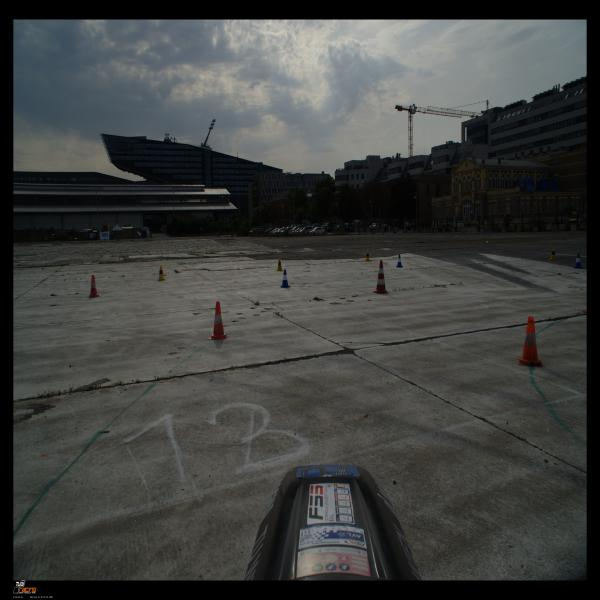blue_cone: (279, 269, 291, 288), (573, 253, 584, 269), (396, 255, 403, 268)
large_orange_cone: (372, 260, 390, 294)
orange_cone: (518, 316, 543, 368), (208, 301, 230, 340), (87, 275, 101, 298)
yellow_cone: (157, 265, 166, 281), (548, 247, 558, 260), (275, 258, 284, 271), (364, 250, 371, 261)
